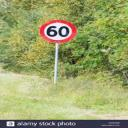speed_limit_60: (39, 20, 75, 42)
